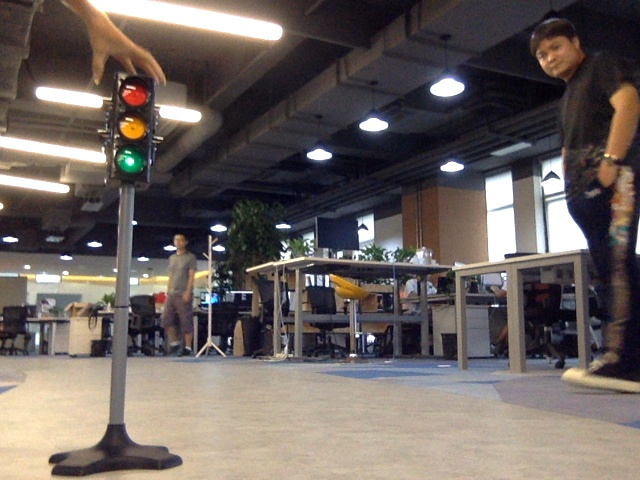green: (116, 81, 144, 174)
